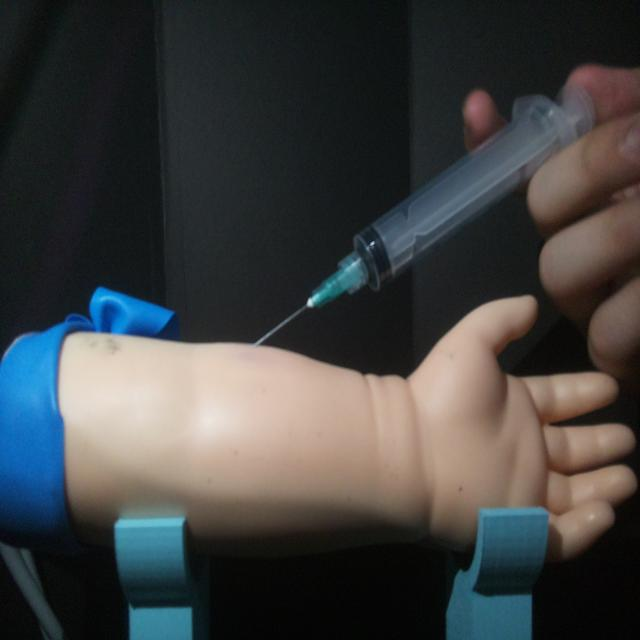30deg: (252, 79, 601, 352)
